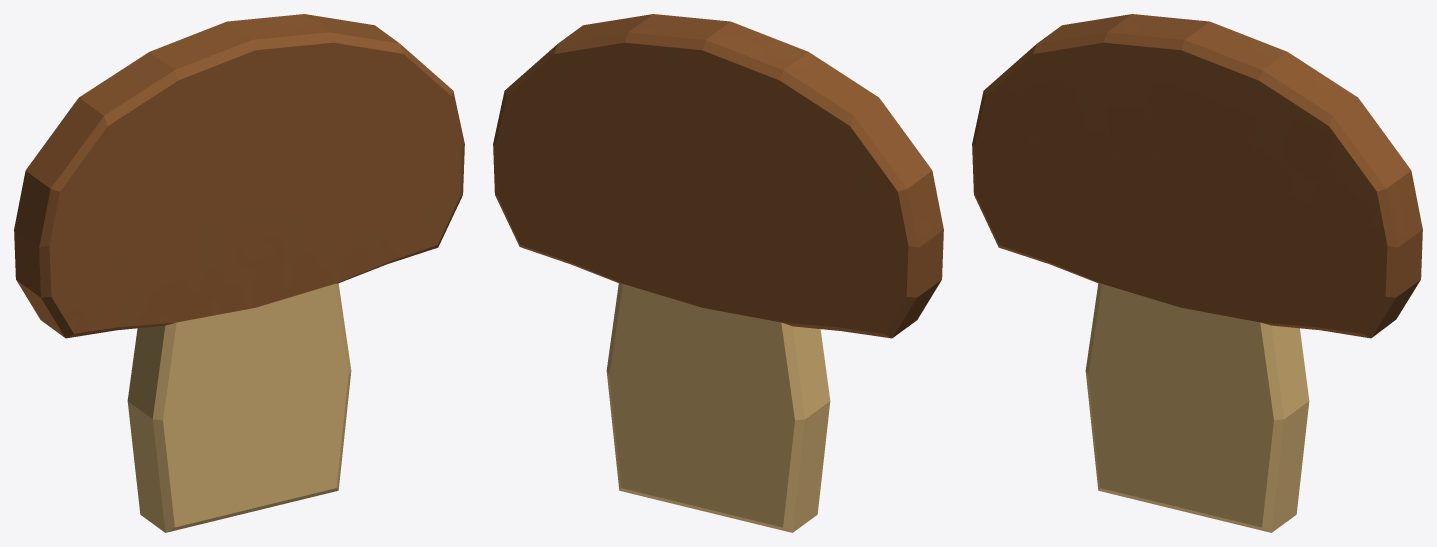
File: mushroom.09.glb
3 renders of one model, left to right at view 1: azimuth 30°, elevation 25°; view 2: azimuth 150°, elevation 25°; view 3: azimuth 330°, elevation 25°, orthographic.
Visible parts, largest first — view 1: Plane.005; view 2: Plane.005; view 3: Plane.005.
Part boxes in pixels (box(x1,y1,x2,y2)): Plane.005: box(14, 14, 464, 532); Plane.005: box(493, 14, 943, 532); Plane.005: box(972, 14, 1422, 532).
Bounding box in the file's own units: 0.2498 × 0.2646 × 0.0331.
Materials: 1 (1 with a texture image).
